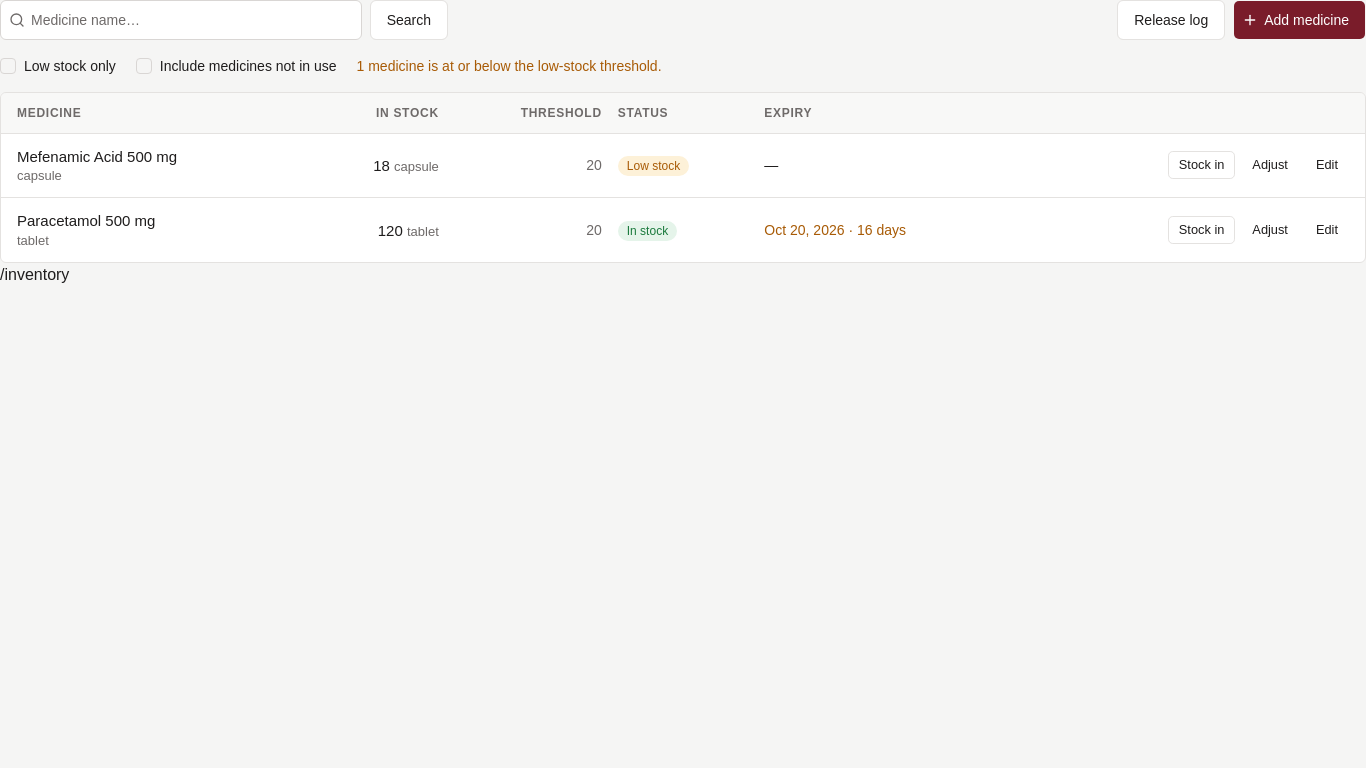
Test: a count that differs from the records needs a reason
Click the button with aria-label "Adjust count of Mefenamic Acid 500 mg" at coordinates (1270, 166), box [1241,152,1299,180]
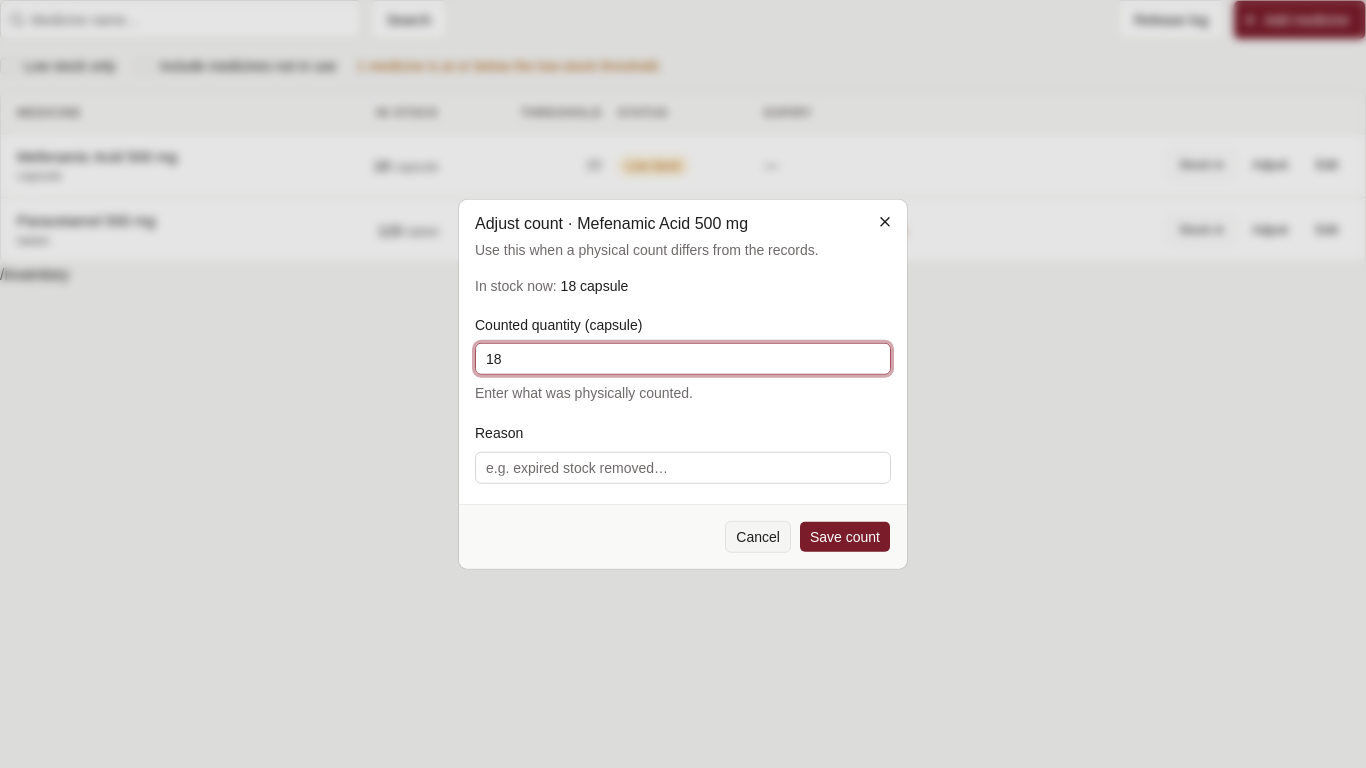
Expected: the field labelled "Counted quantity (capsule)" holds "18"
Replace the text in the field labelled "Counted quantity (capsule)" with "15" at coordinates (683, 359), box [475,343,891,375]
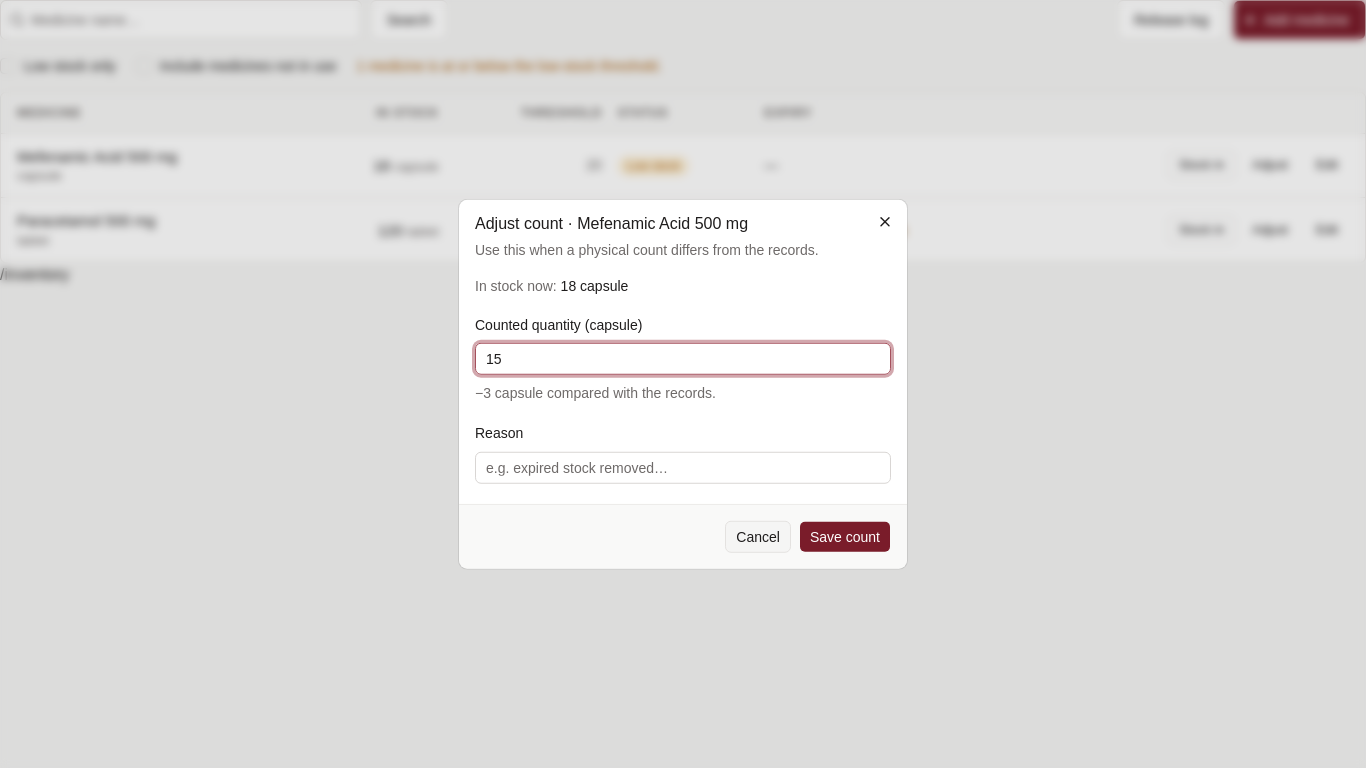
Expected: the text "−3 capsule compared with the records." is shown, [475,385,716,401]
Click the button "Save count" at coordinates (845, 536), box [799,520,891,552]
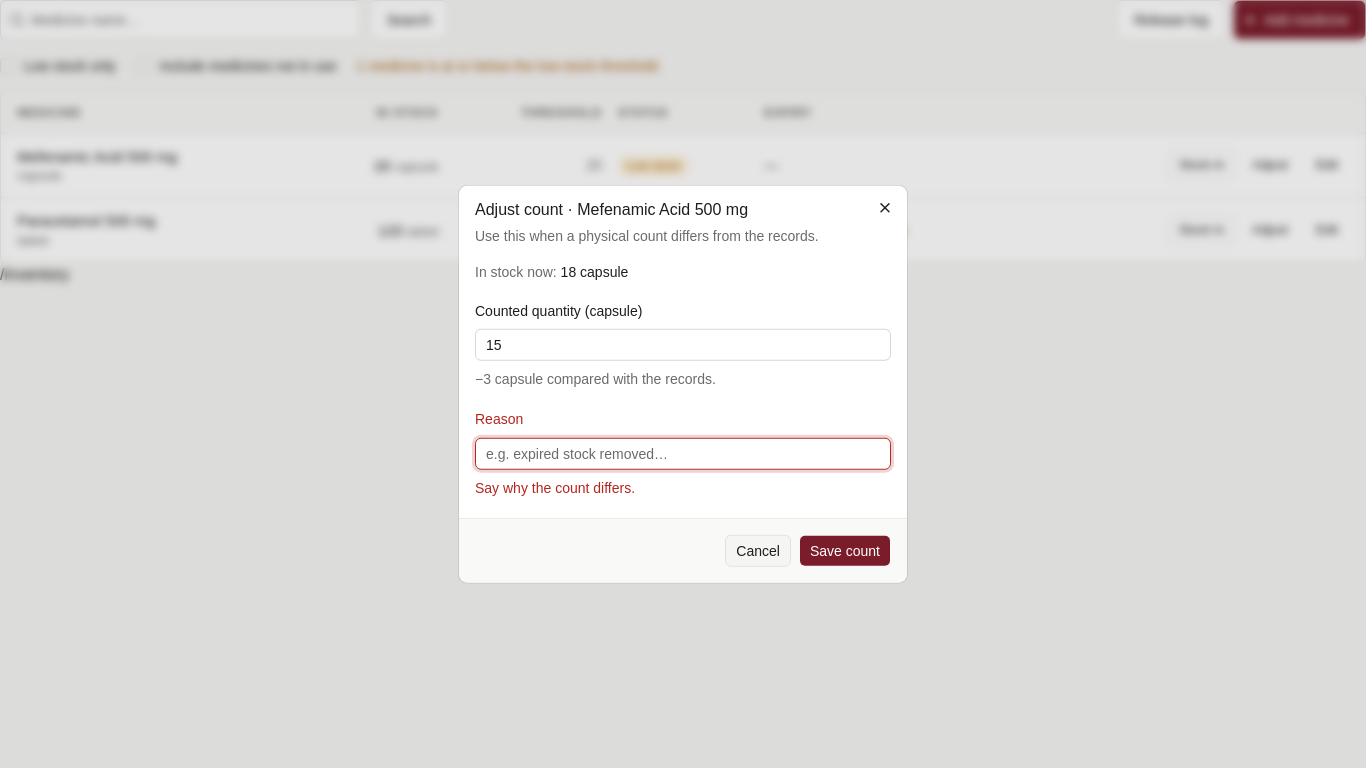
Expected: the text "Say why the count differs." is shown, [475,479,635,495]
Type "Three capsules damaged" into the field labelled "Reason" at coordinates (683, 453), box [475,437,891,469]
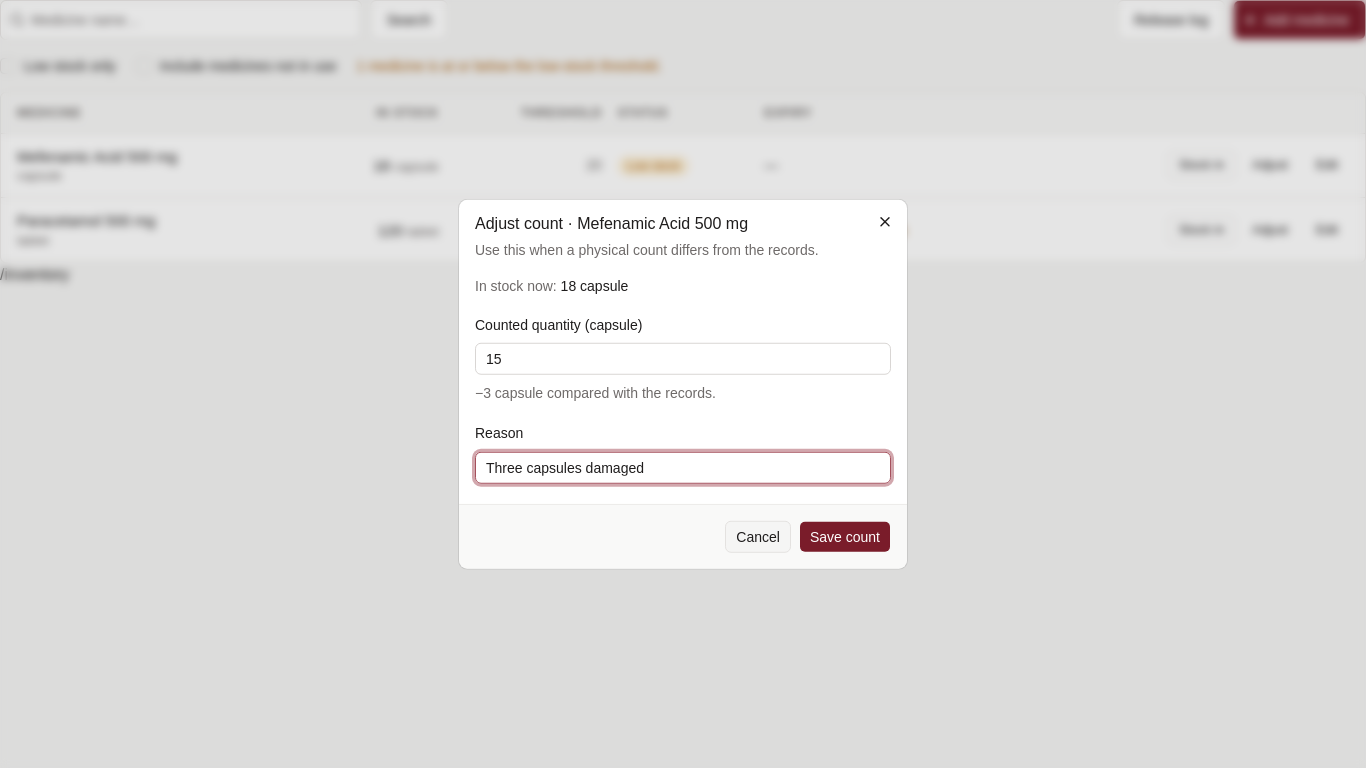
Click the button "Save count" at coordinates (845, 536), box [799,520,891,552]
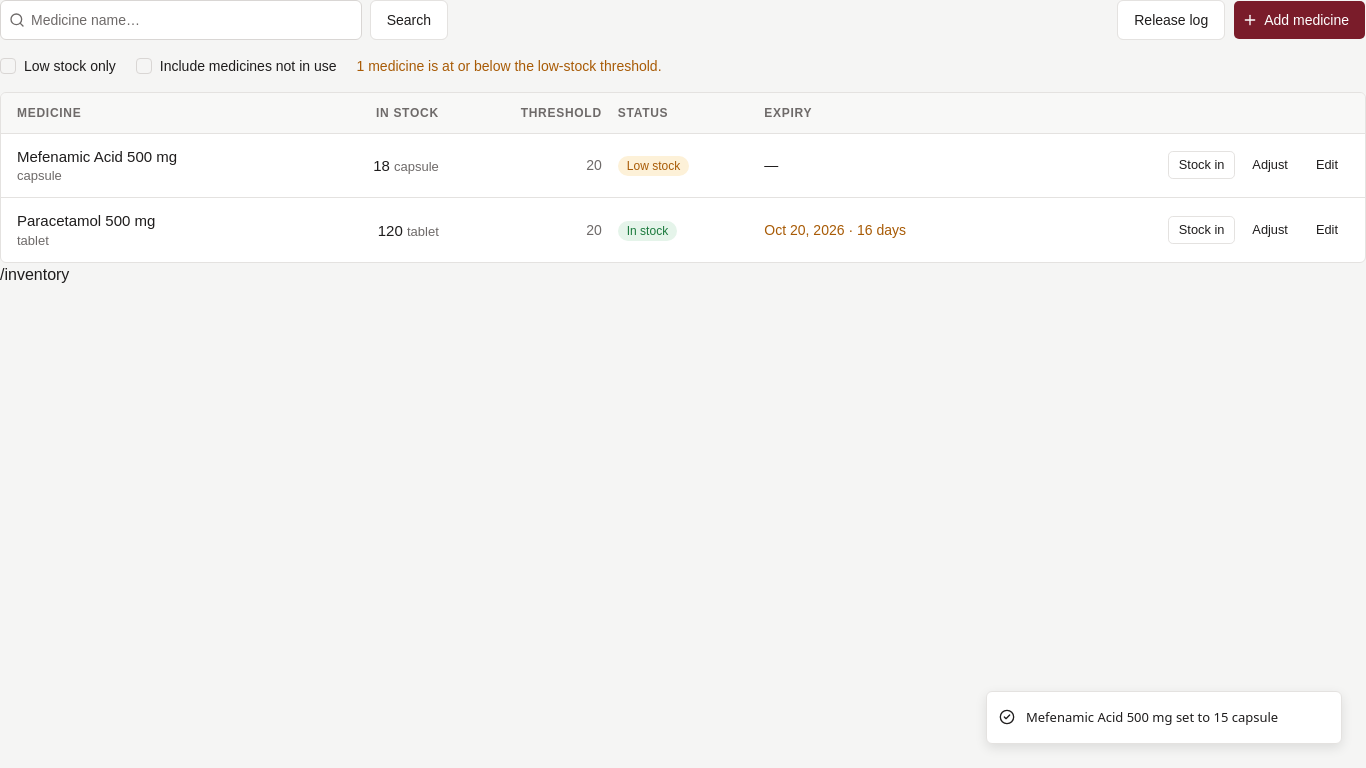
Expected: the text "Mefenamic Acid 500 mg set to 15 capsule" is shown, [1026,708,1278,727]
